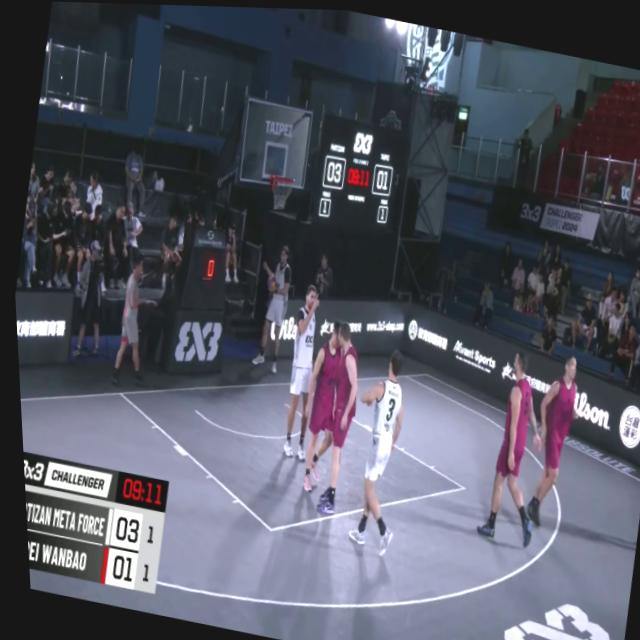ball: (260, 269, 277, 296)
hoop: (265, 170, 293, 212)
player: (458, 339, 560, 554), (330, 339, 422, 556), (298, 318, 370, 522), (508, 349, 585, 531), (282, 314, 352, 502), (265, 280, 327, 456), (242, 239, 297, 374)
